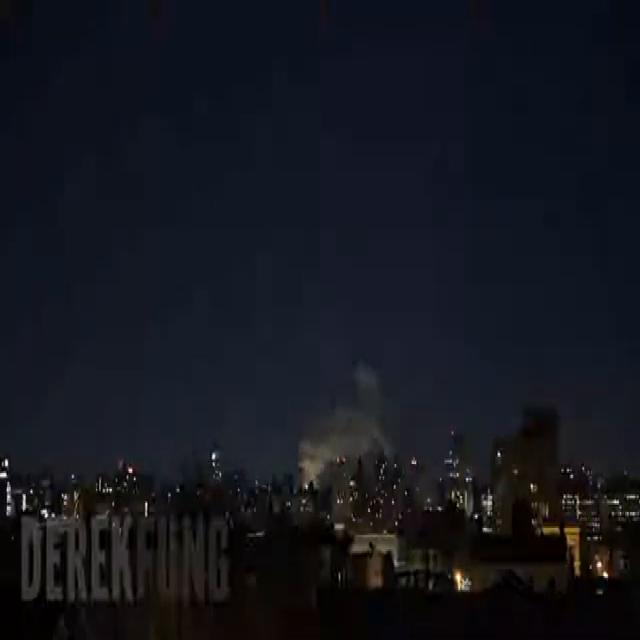smoke: (298, 363, 394, 478)
